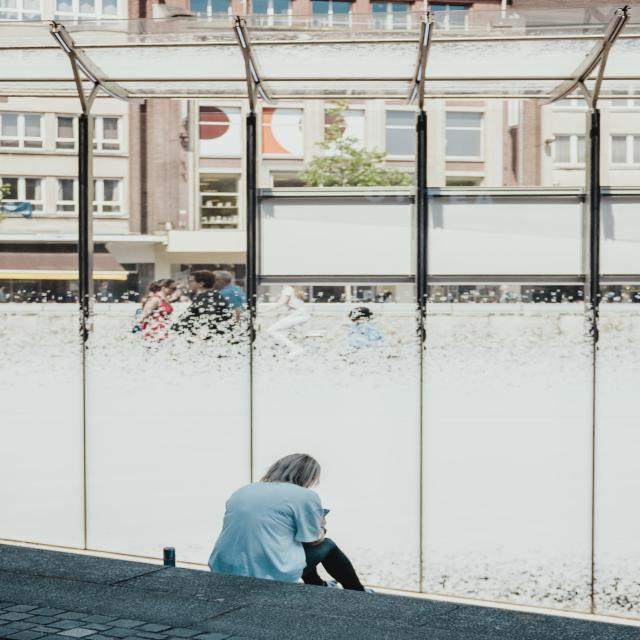adult: (203, 451, 363, 583)
